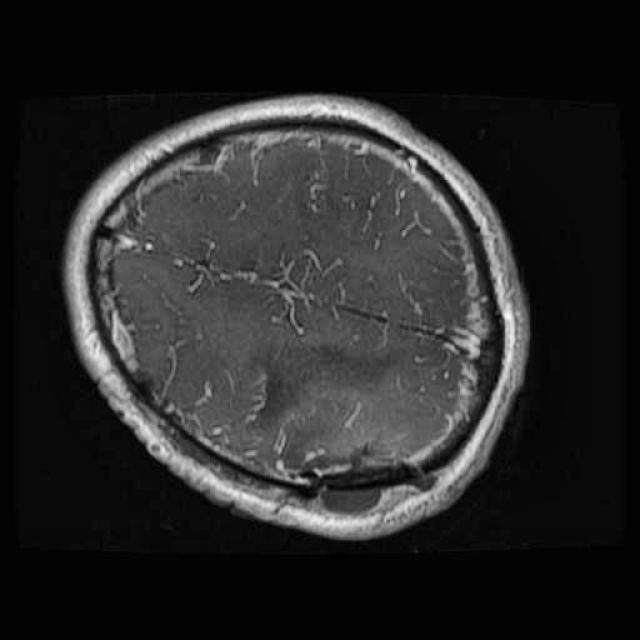Non-Tumor: (276, 431, 453, 529)
